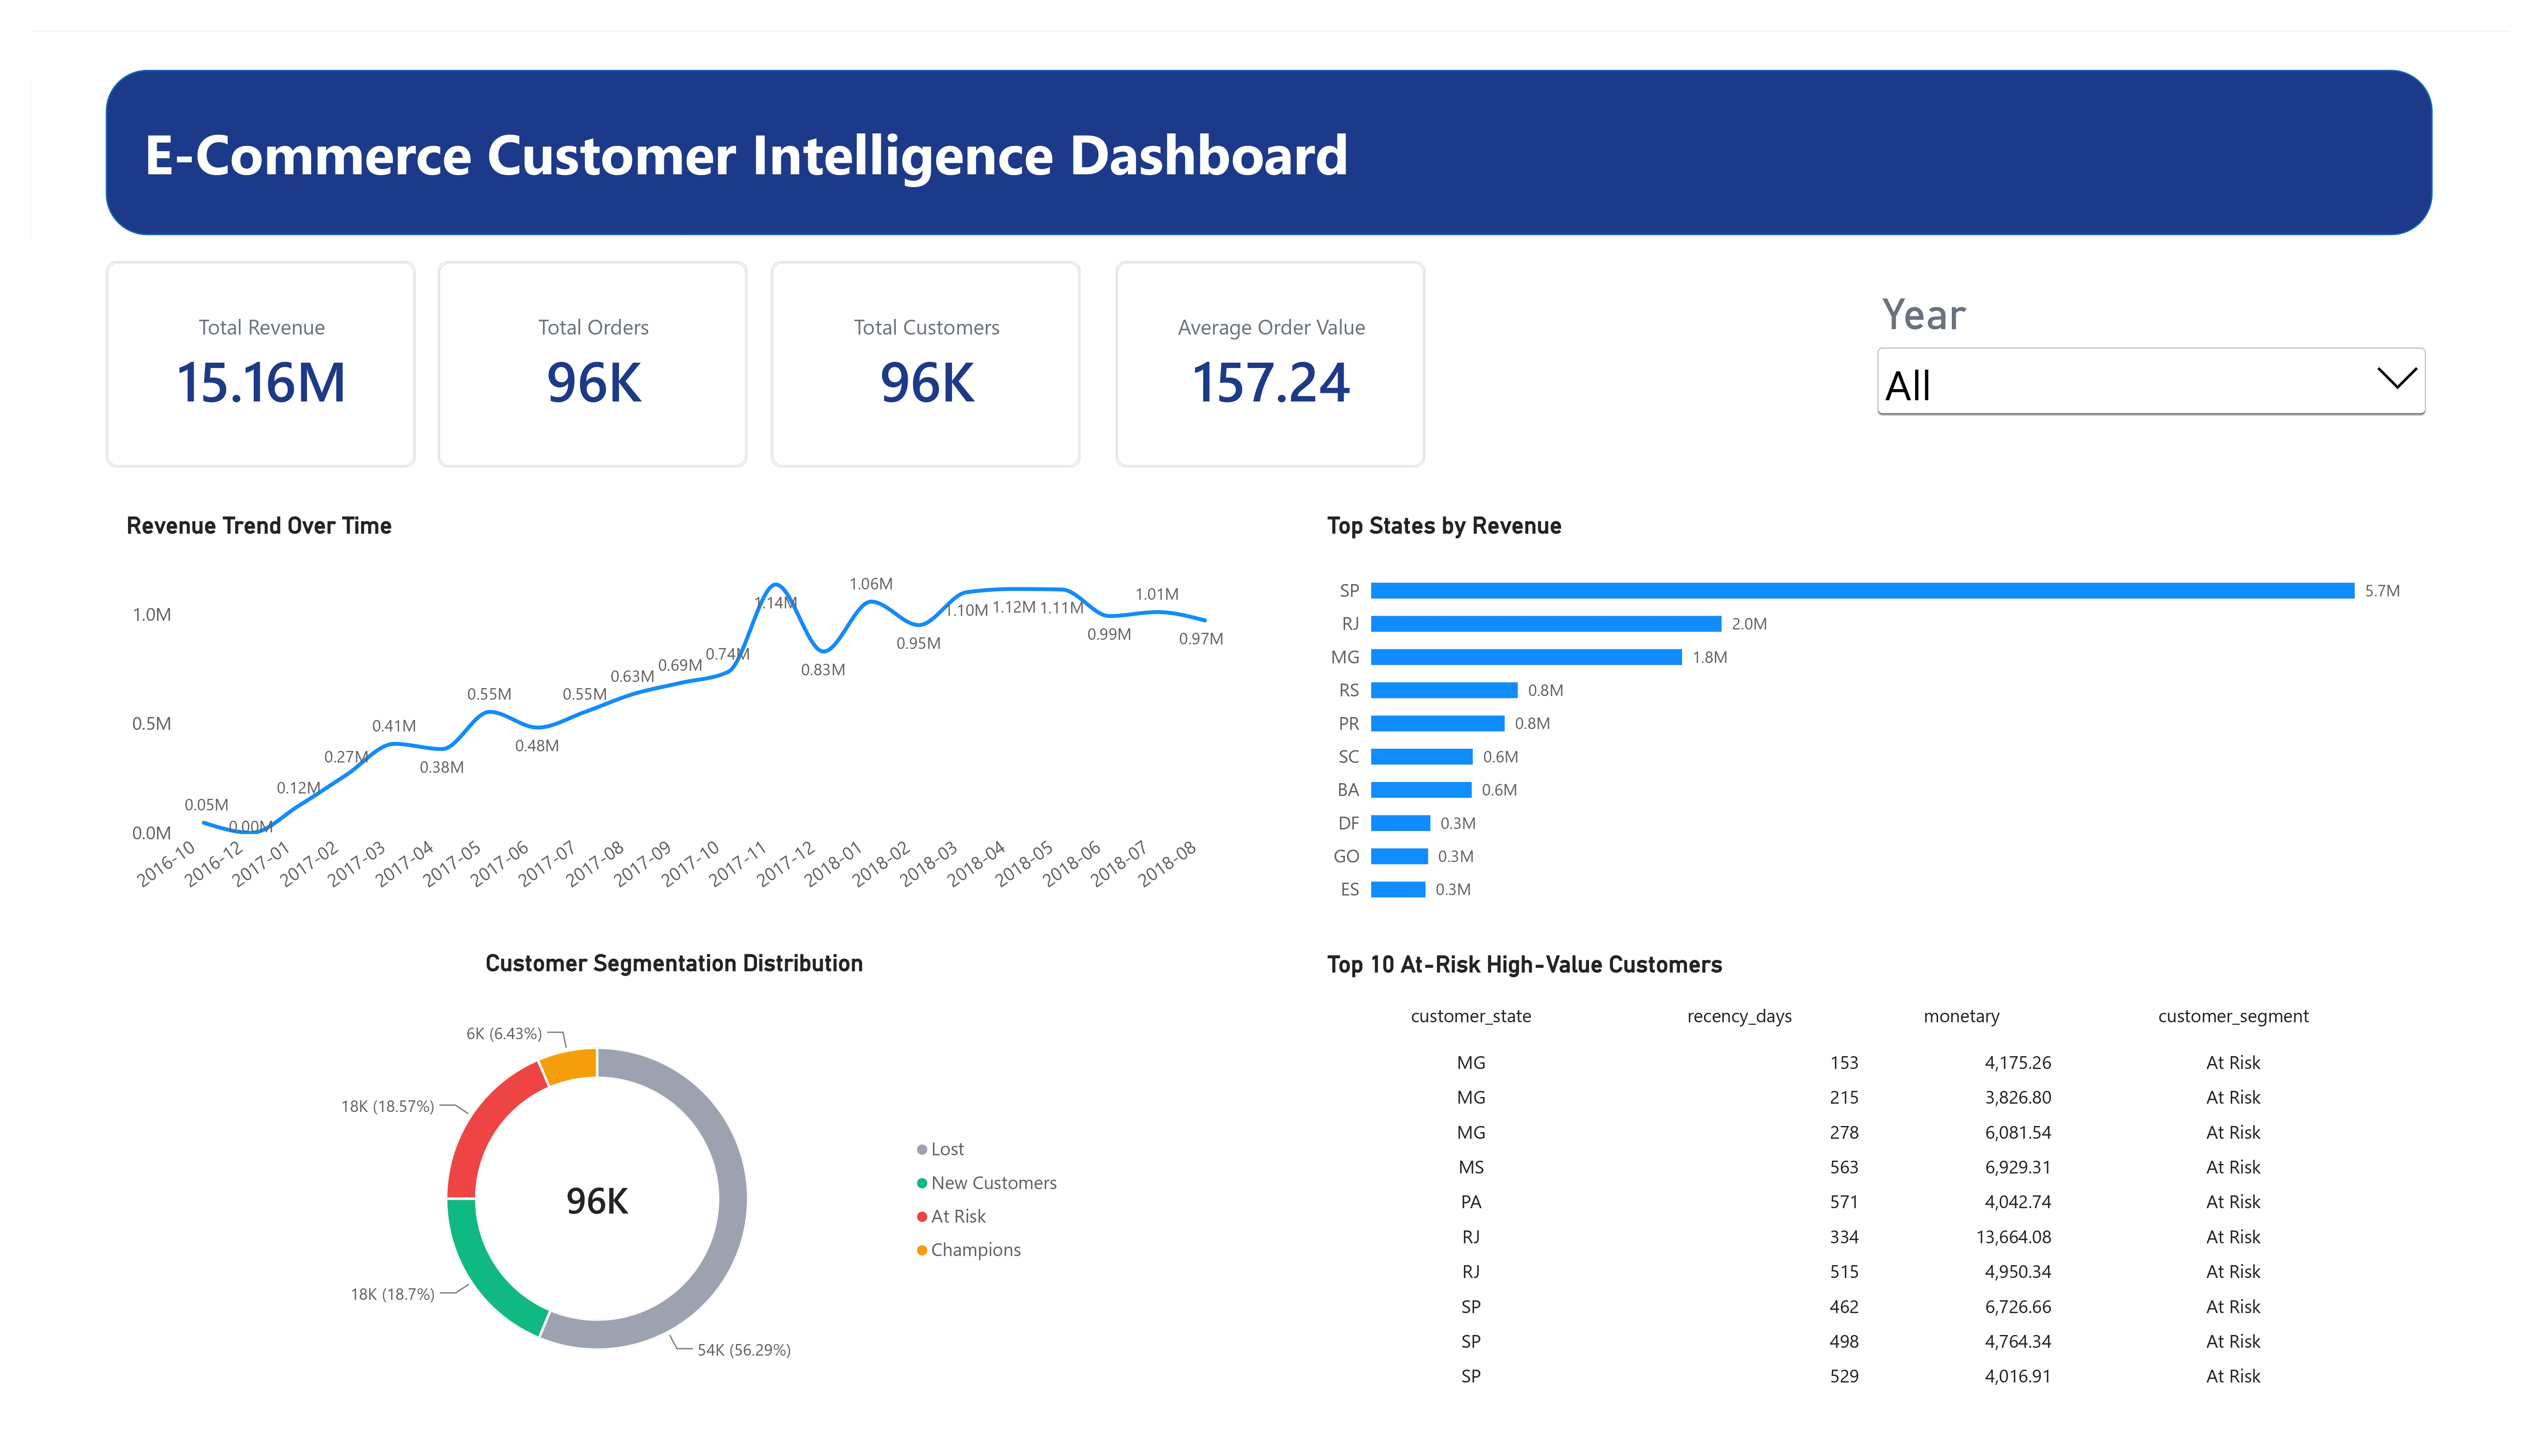

What the dashboard file says about the page in this screenshot:
{"tool":"powerbi","page":{"name":"E-Commerce Customer Intelligence","canvas":[1920,1080],"ordinal":0},"visuals":[{"type":"cardVisual","fields":{"Data":["public fact_sales_clean.Total Revenue"]},"box":[57.5,177.5,240,160],"z":0},{"type":"cardVisual","fields":{"Data":["public fact_sales_clean.Total Orders"]},"box":[315,177.5,240,160],"z":1},{"type":"cardVisual","fields":{"Data":["public fact_sales_clean.Total Customers"]},"box":[572.5,177.5,240,160],"z":2},{"type":"cardVisual","fields":{"Data":["public fact_sales_clean.Average Order Value"]},"box":[840,177.5,240,160],"z":3},{"type":"lineChart","title":"Revenue Trend Over Time","fields":{"Category":["public dim_date.year_month"],"Y":["public fact_sales_clean.Total Revenue"]},"box":[57.5,357.5,882.5,340],"z":4},{"type":"clusteredBarChart","title":"Top States by Revenue","fields":{"Category":["public olist_customers_dataset.customer_state"],"Y":["public fact_sales_clean.Total Revenue"]},"box":[987.5,357.5,872.5,340],"z":5},{"type":"donutChart","title":"Customer Segmentation Distribution","fields":{"Category":["public v_rfm_analysis.customer_segment"],"Y":["public fact_sales_clean.Total Customers"]},"box":[176.7,696.7,643.3,380],"z":6},{"type":"tableEx","title":"Top 10 At-Risk High-Value Customers","fields":{"Values":["public v_rfm_analysis.customer_state","public v_rfm_analysis.recency_days","public v_rfm_analysis.monetary","public v_rfm_analysis.customer_segment"]},"box":[987.5,697.5,872.5,380],"z":7},{"type":"shape","title":"E-Commerce Customer Intelligence Dashboard","box":[57.5,30,1802.5,127.5],"z":8},{"type":"slicer","fields":{"Values":["public dim_date.year"]},"box":[1425,200,435,115],"z":9}]}

Visuals, with their boxes on the page's 1920x1080 design canvas (x1, y1, x2, y2). These are canvas units, not pixel positions in the 2541x1456 screenshot, which may show the page scaled, cropped or inside an application window:
cardVisual - public fact_sales_clean.Total Revenue: select_region(58, 178, 298, 338)
cardVisual - public fact_sales_clean.Total Orders: select_region(315, 178, 555, 338)
cardVisual - public fact_sales_clean.Total Customers: select_region(572, 178, 812, 338)
cardVisual - public fact_sales_clean.Average Order Value: select_region(840, 178, 1080, 338)
"Revenue Trend Over Time" lineChart: select_region(58, 358, 940, 698)
"Top States by Revenue" clusteredBarChart: select_region(988, 358, 1860, 698)
"Customer Segmentation Distribution" donutChart: select_region(177, 697, 820, 1077)
"Top 10 At-Risk High-Value Customers" tableEx: select_region(988, 698, 1860, 1078)
"E-Commerce Customer Intelligence Dashboard" shape: select_region(58, 30, 1860, 158)
slicer - public dim_date.year: select_region(1425, 200, 1860, 315)
